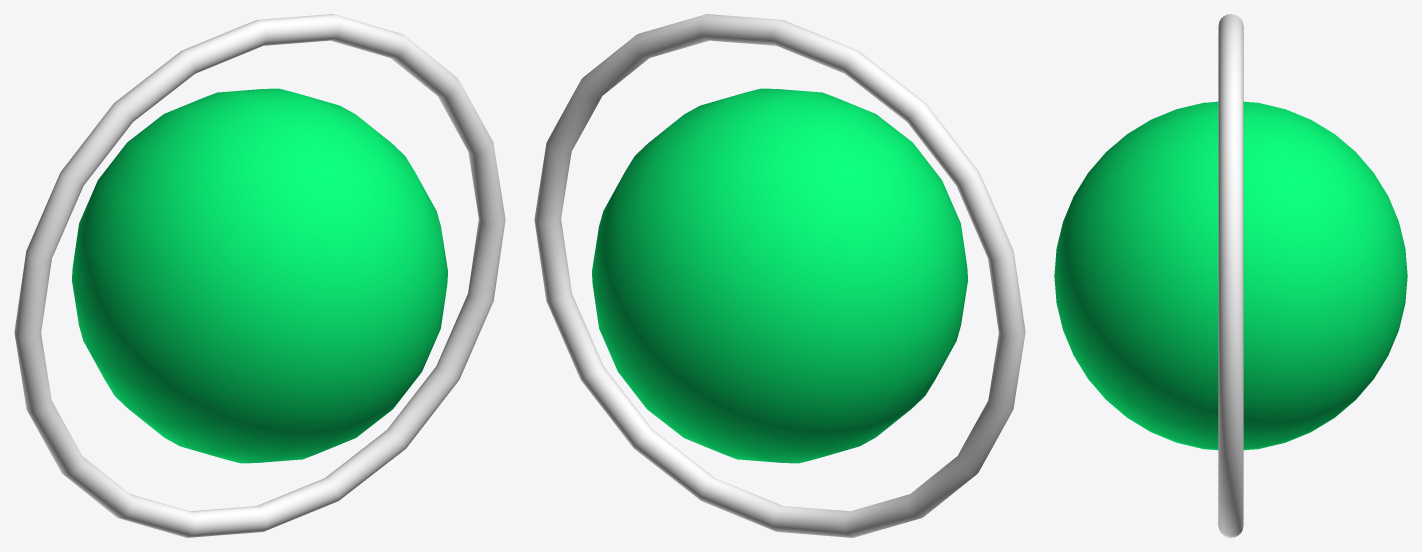
Rendered from simple_003_TransparencyAsMaterialParam_00.dae.
3 renders of one model, left to right at view 1: azimuth 30°, elevation 25°; view 2: azimuth 150°, elevation 25°; view 3: azimuth 270°, elevation 25°, orthographic. The views are drawn at different scales.
Visible parts, largest first — view 1: pSphere2, pTorus1; view 2: pSphere2, pTorus1; view 3: pSphere2, pTorus1.
Boxes of the visible parts, x1,y1,x2,y2 form: pSphere2: (72, 88, 447, 463); pTorus1: (14, 14, 505, 537); pSphere2: (592, 88, 967, 463); pTorus1: (534, 14, 1025, 537); pSphere2: (1054, 101, 1407, 450); pTorus1: (1218, 14, 1243, 537).
Size of the model in its own units: 2.99 by 2 by 2.99.
